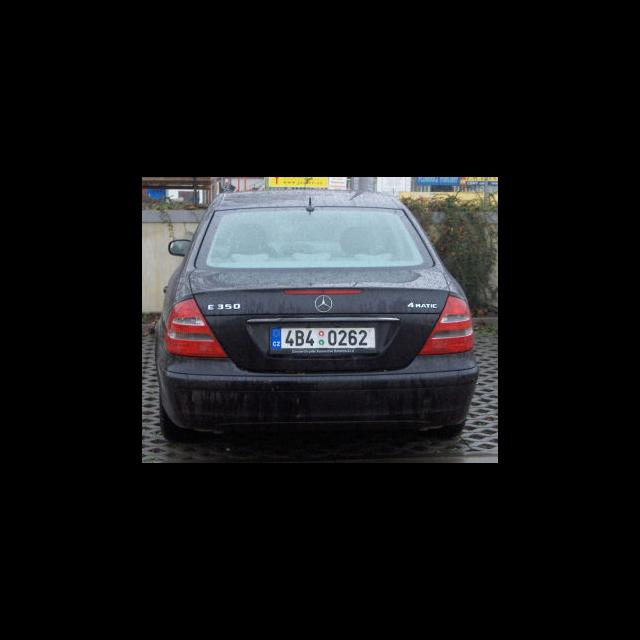Plate: (268, 324, 378, 352)
